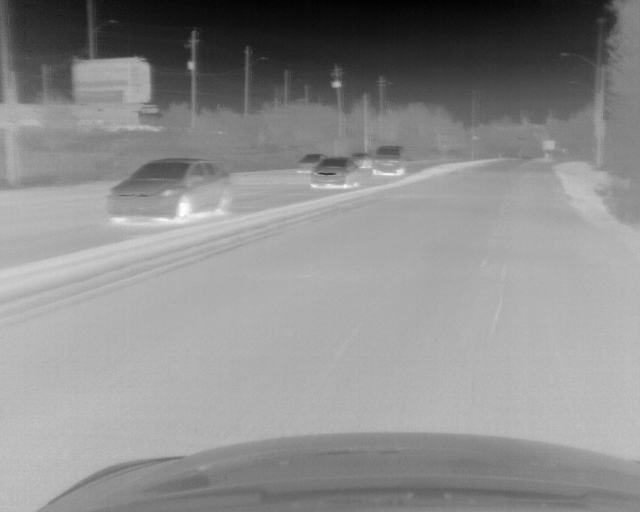car: (105, 157, 234, 224), (310, 158, 361, 188), (372, 144, 407, 176), (296, 152, 326, 172), (351, 151, 374, 168)
